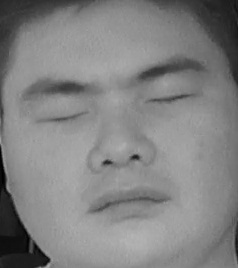blink: (34, 99, 87, 133), (146, 79, 198, 112)
mouth: (80, 178, 168, 224)
